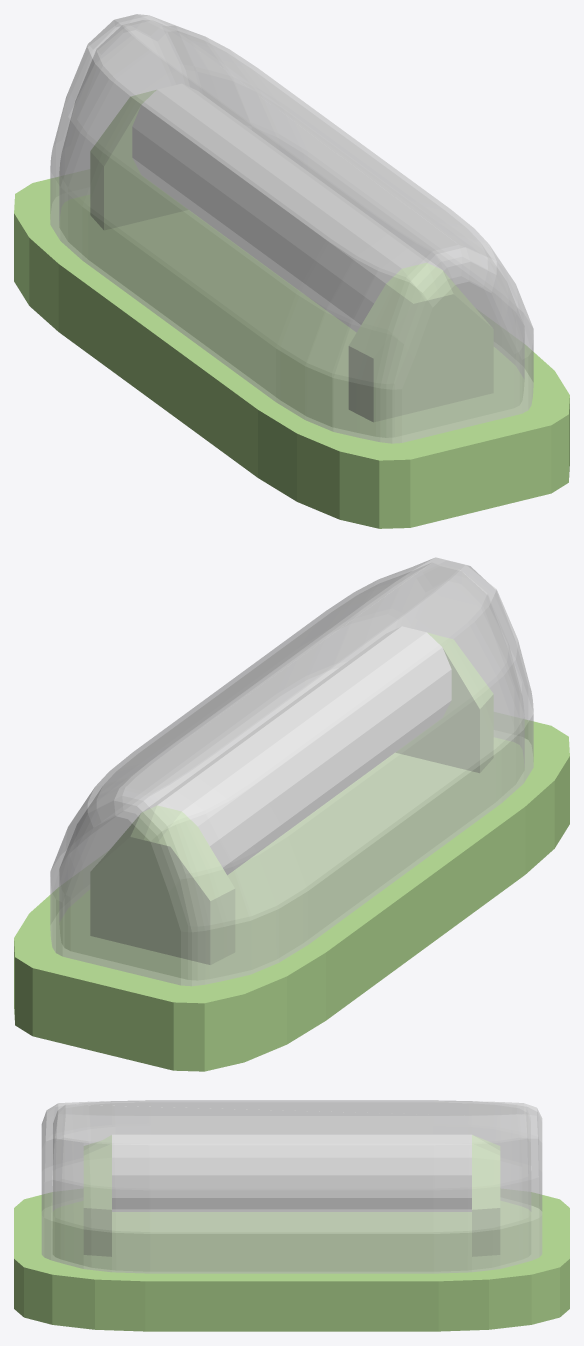
Rendered from Svetilnik.fbx.
The picture shows the model from 3 angles, top to bottom: view 1: azimuth 30°, elevation 25°; view 2: azimuth 150°, elevation 25°; view 3: azimuth 270°, elevation 25°; orthographic projection. The views are drawn at different scales.
Parts seen in each view (by area): view 1: Светильник; view 2: Светильник; view 3: Светильник.
Part boxes in pixels (x1,y1,x2,y2): Светильник: [14, 14, 569, 528]; Светильник: [14, 557, 569, 1071]; Светильник: [14, 1100, 569, 1331].
Size of the model in its own units: 200 by 170 by 490.
